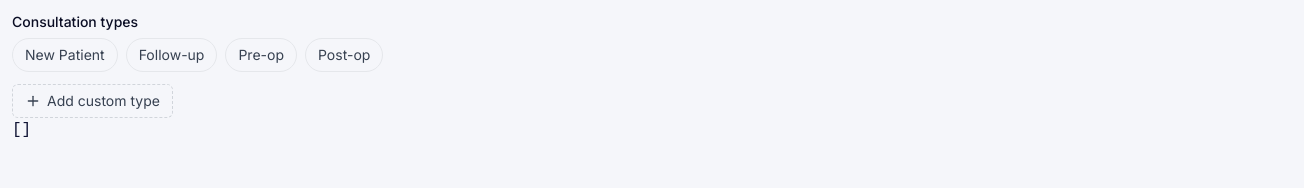
Scenario: ConsultationTypesEditor — validation gates › blocks Add for an email-shaped label
The width and height of the screenshot is (1304, 188).
Click the button "Add custom type" at {"x": 92, "y": 101}, box 12,84 -> 173,118
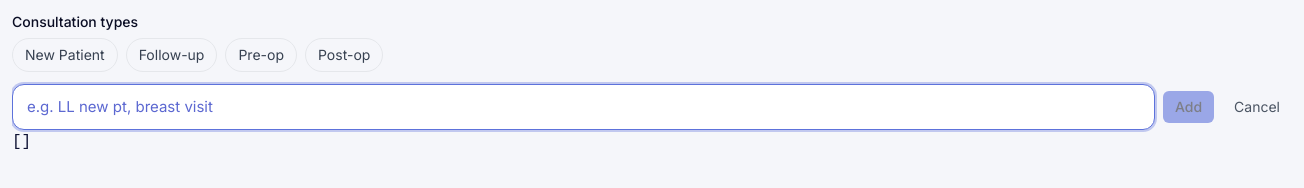
Type "perry@clinic.lan" into the field named "custom consultation type name" at {"x": 583, "y": 107}, box 12,84 -> 1155,130
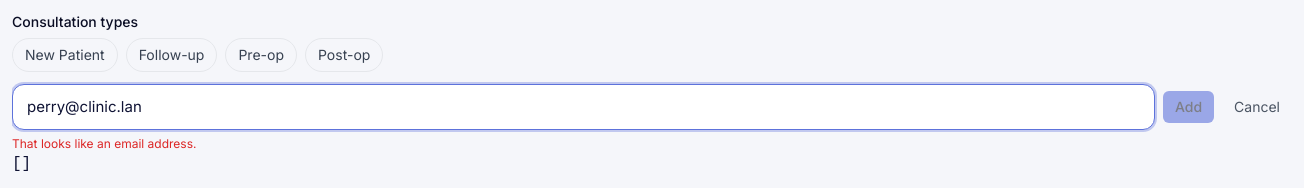
Expected: the button "Add" is disabled, 1163,91 -> 1214,123
Expected: the text "That looks like an email address." is shown, 12,136 -> 196,151
